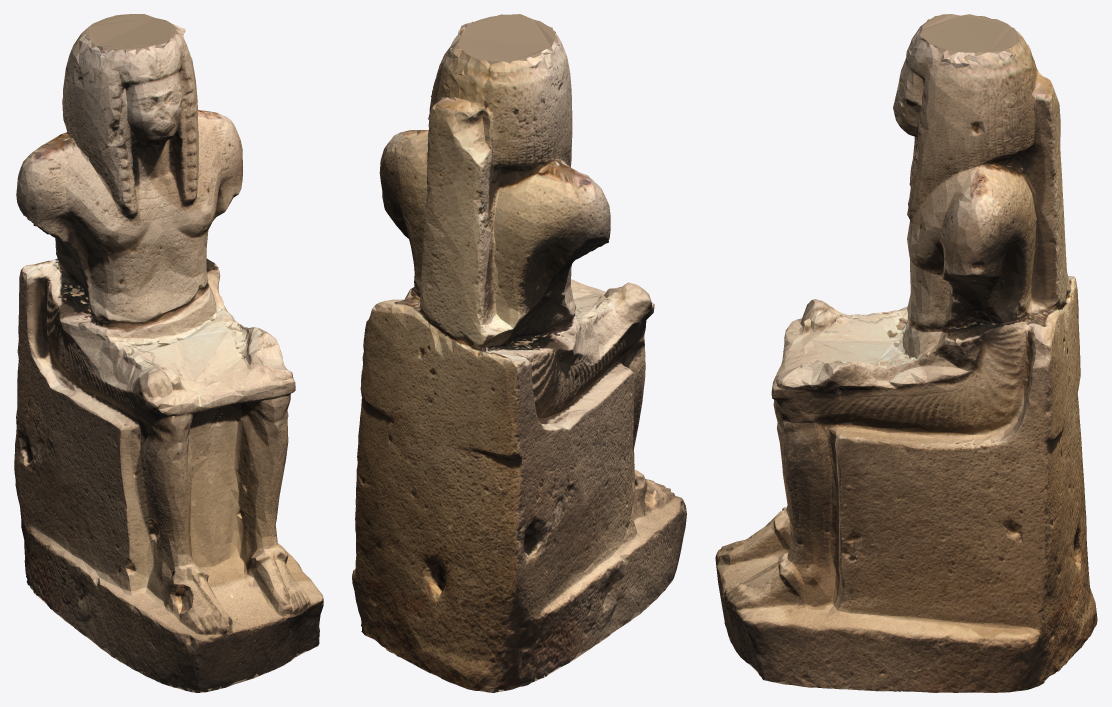
The model's file is statue_of_ramesses_iii.dae.
The picture shows the model from 3 angles, left to right: view 1: azimuth 30°, elevation 25°; view 2: azimuth 150°, elevation 25°; view 3: azimuth 270°, elevation 25°; orthographic projection. The views are drawn at different scales.
Visible parts, largest first — view 1: node; view 2: node; view 3: node.
Part boxes in pixels (box(x1,y1,x2,y2)): node: box(14, 14, 323, 692); node: box(352, 14, 686, 692); node: box(715, 14, 1097, 692).
Size of the model in its own units: 4.65 by 11.34 by 6.48.
1 material, 1 textured.
